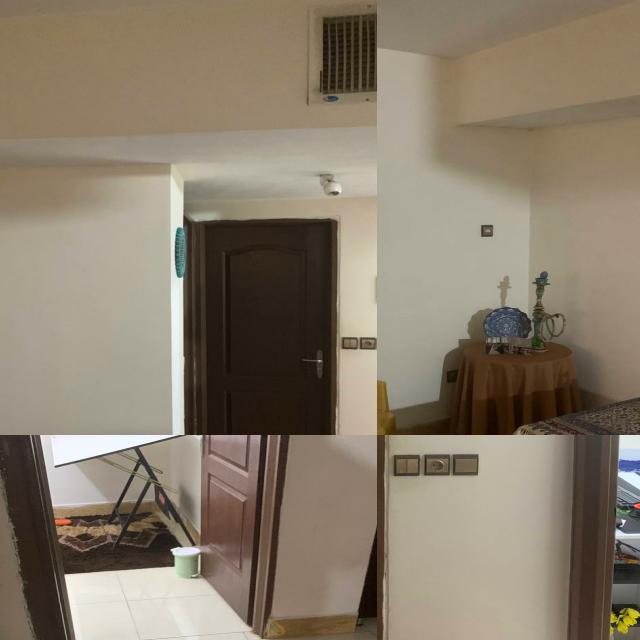Floor: (65, 567, 377, 640)
Wall: (377, 49, 531, 410), (0, 147, 182, 435), (187, 183, 377, 435), (388, 435, 569, 640), (546, 119, 640, 402), (271, 435, 377, 632), (47, 435, 201, 532)
